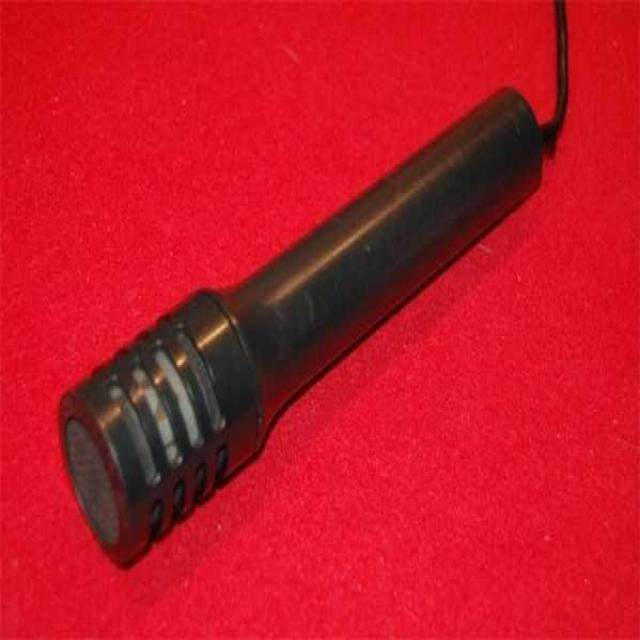microphone: (58, 82, 542, 572)
